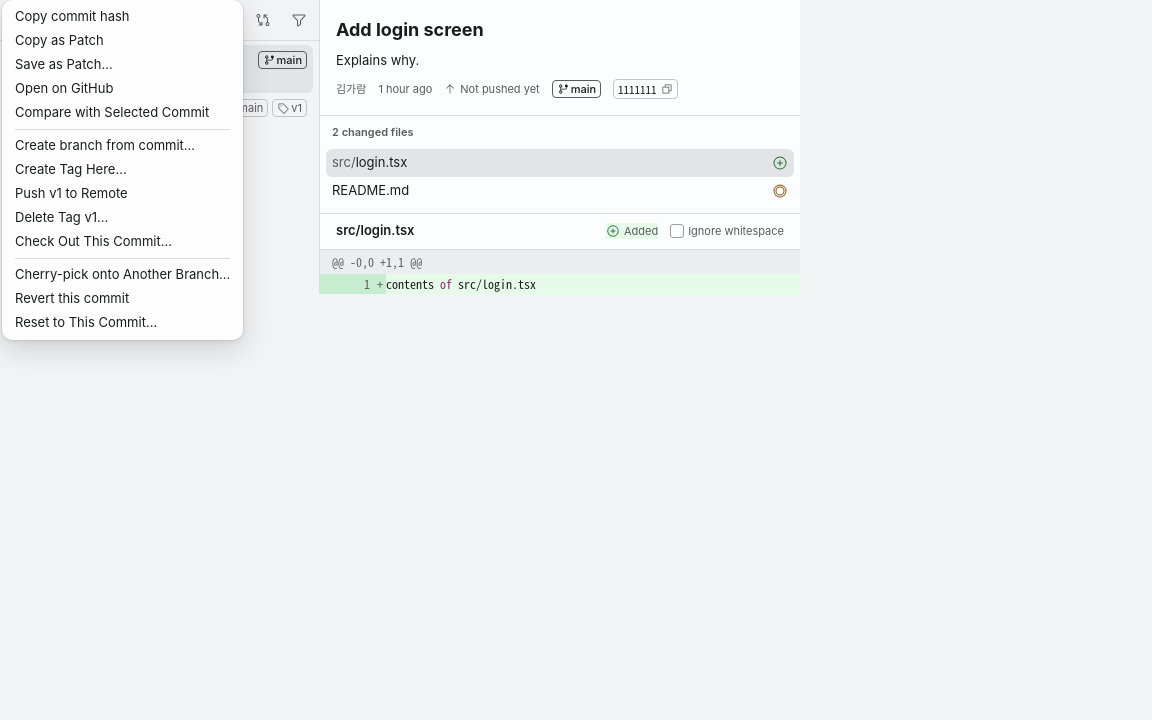
Test: HistoryView › reverts a commit from its context menu
Click the menu item "Revert this commit".
click(72, 298)  # box [15,290,129,306]
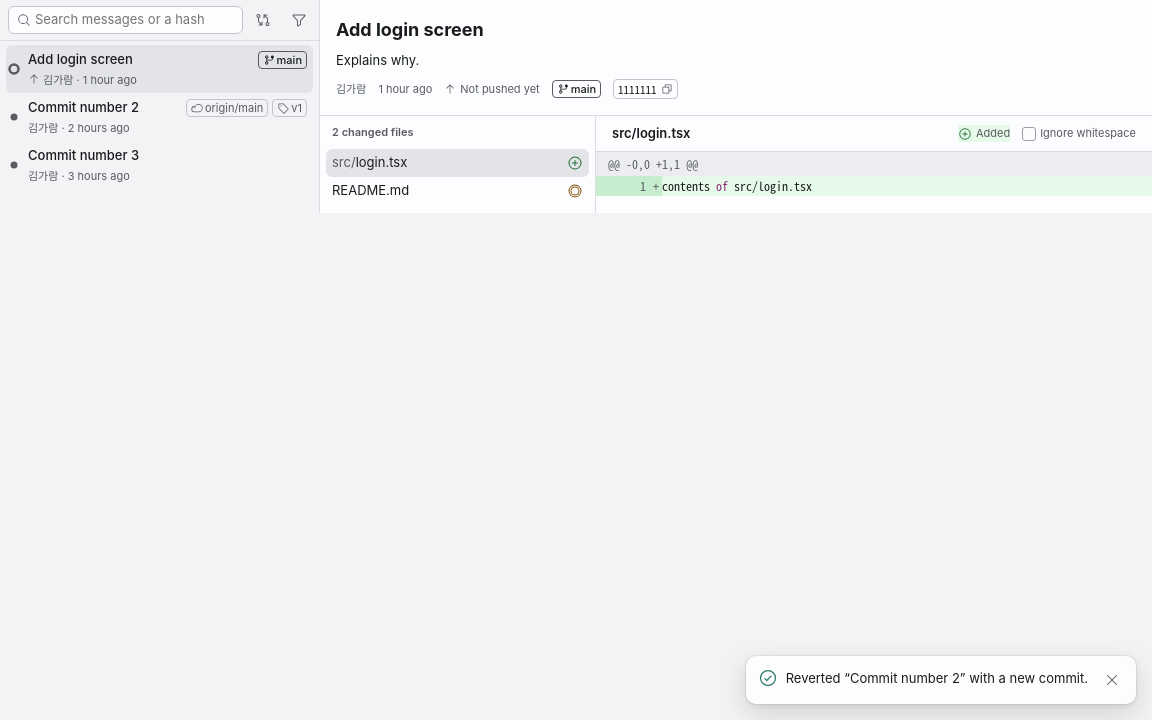
Now the text "Reverted “Commit number 2” with a new commit." is shown, box [786,669,1088,688]
